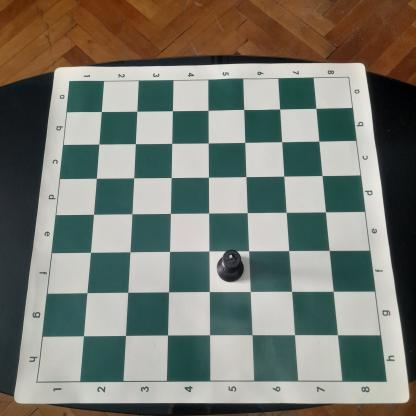black-king: (216, 248, 245, 284)
